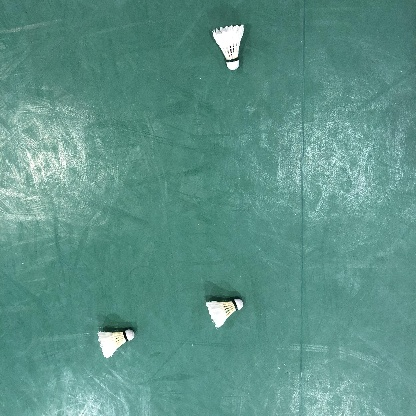ball_single: (212, 25, 244, 70), (206, 299, 243, 329), (97, 329, 135, 358)
